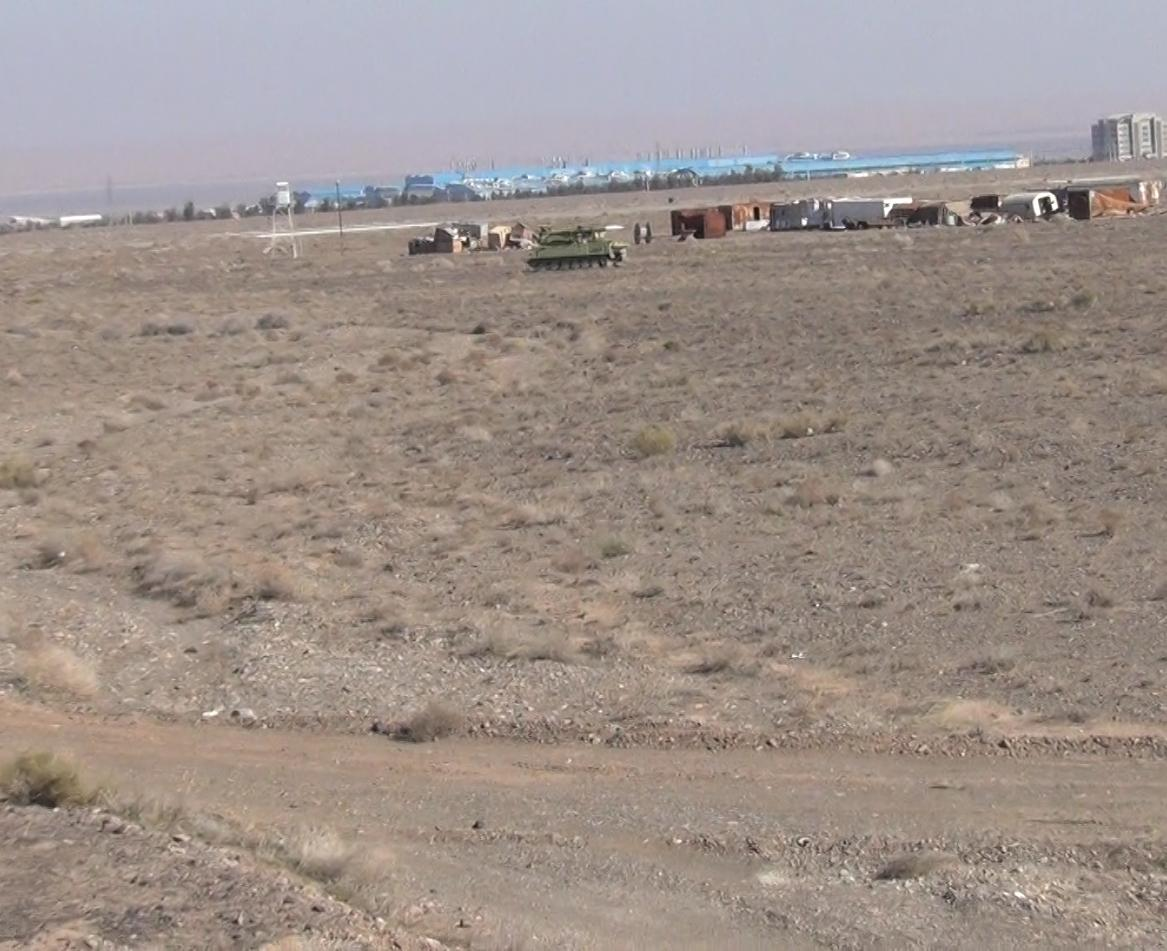armored_car: (524, 221, 630, 276)
